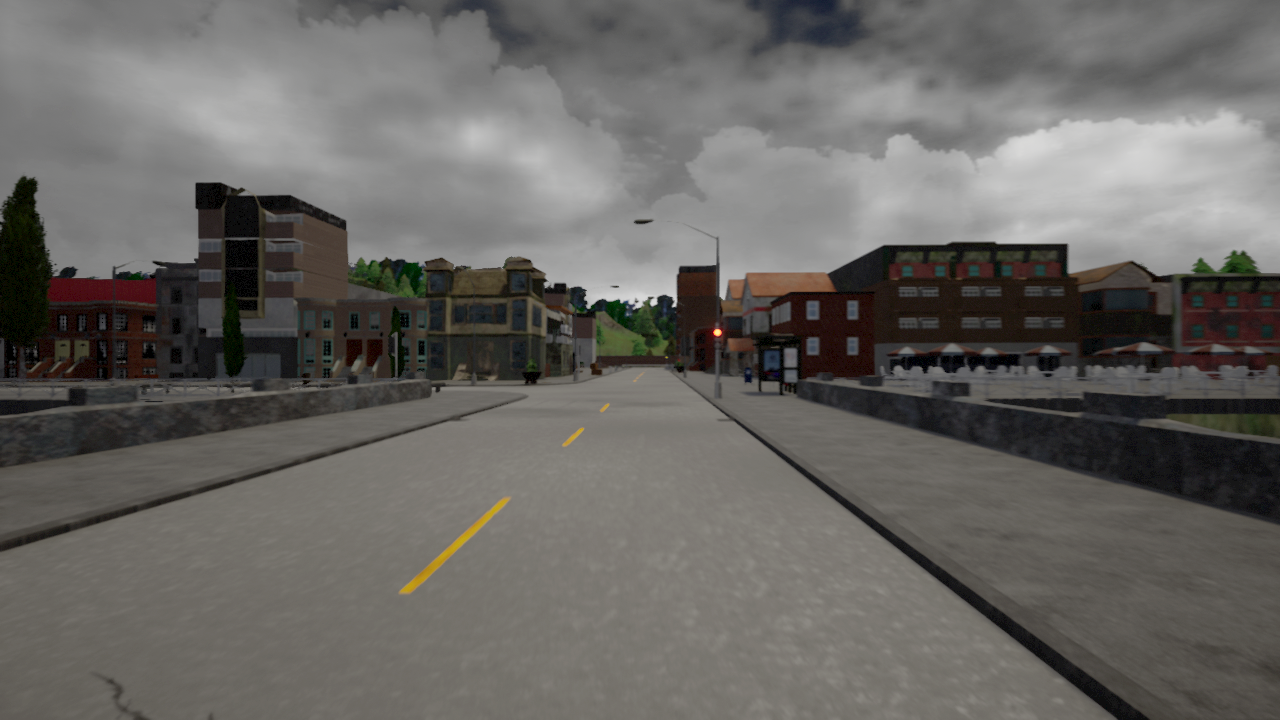red: (712, 328, 722, 350)
